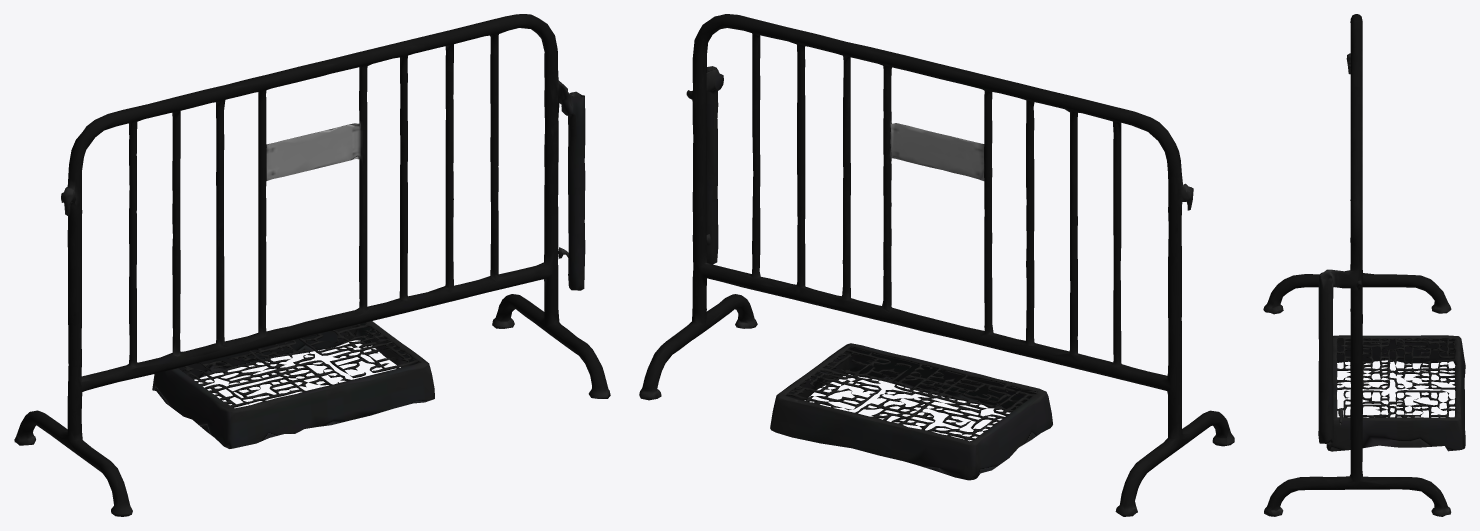
The model's file is barrier-s1.lo.glb.
3 views of the same model, side by side, from view 1: azimuth 30°, elevation 25°; view 2: azimuth 150°, elevation 25°; view 3: azimuth 270°, elevation 25° (orthographic). The views are drawn at different scales.
Parts seen in each view (by area): view 1: geometry_0; view 2: geometry_0; view 3: geometry_0.
Part boxes in pixels (x1,y1,x2,y2): geometry_0: [14, 14, 610, 516]; geometry_0: [639, 14, 1234, 516]; geometry_0: [1263, 14, 1465, 516].
Size of the model in its own units: 1 by 0.6711 by 0.399.
Materials: 1 (1 with a texture image).
